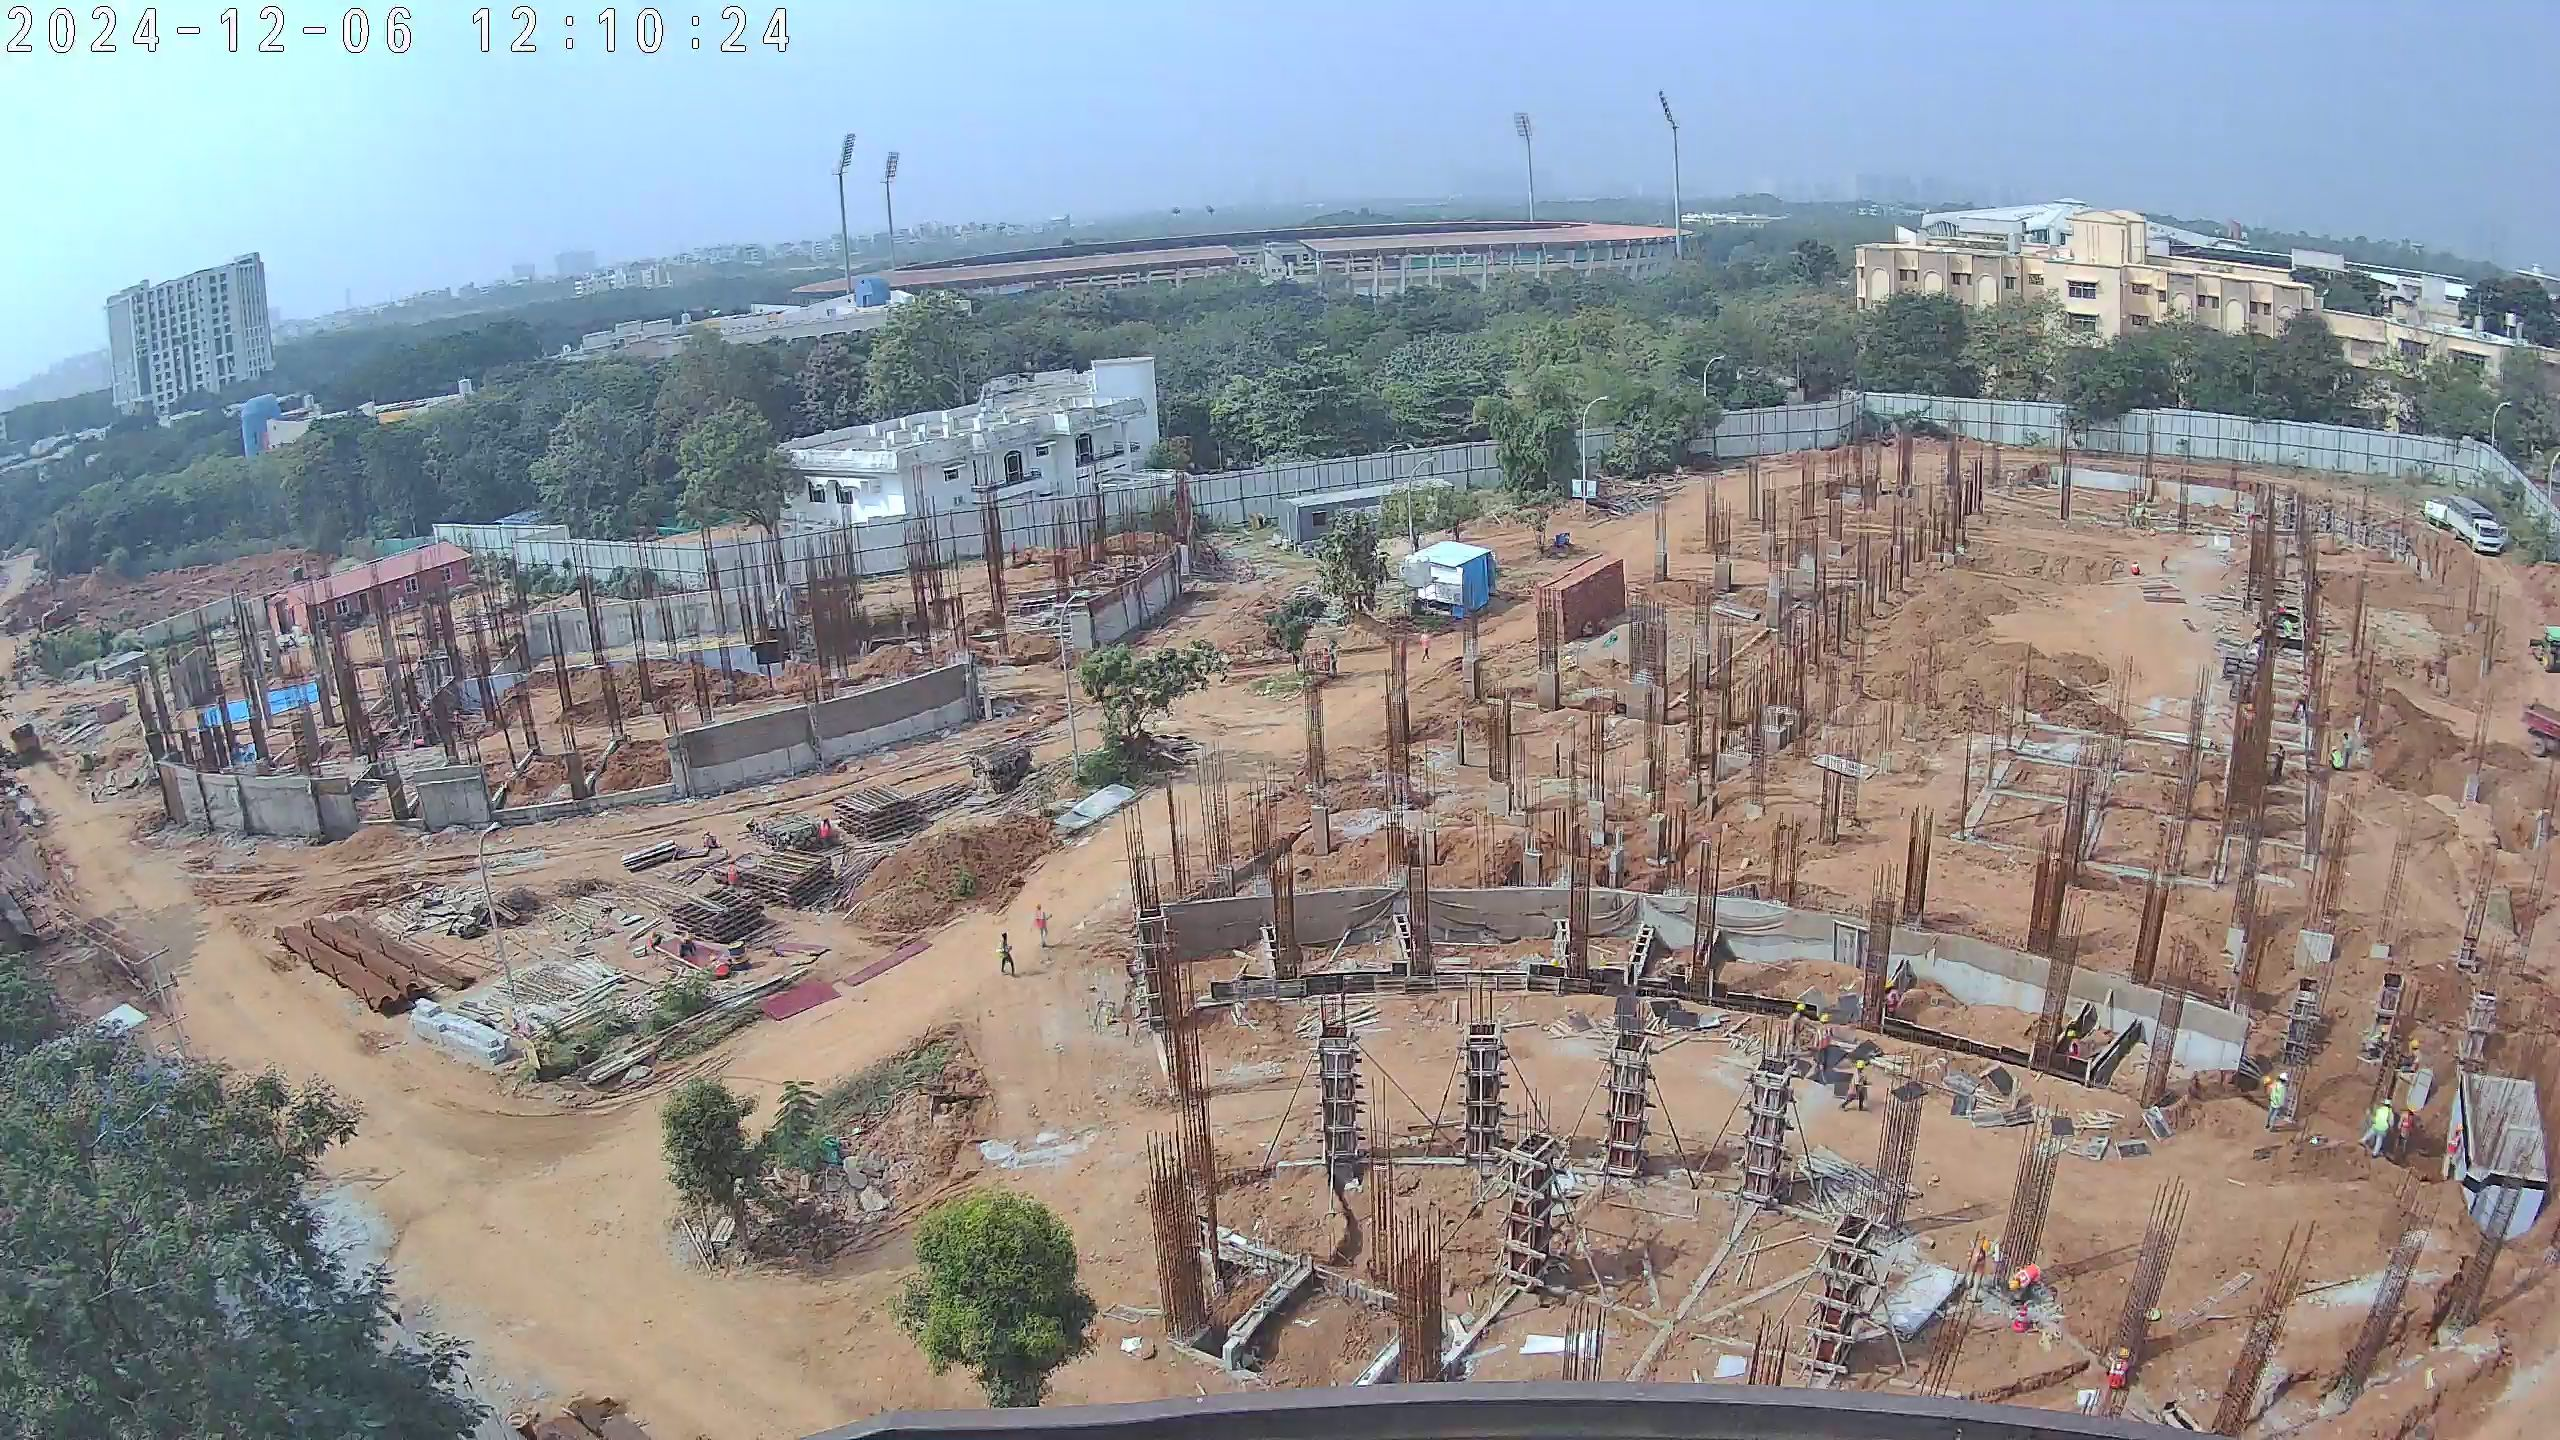bulldozer: (2521, 617, 2560, 681)
truck: (2423, 487, 2511, 560), (2515, 693, 2560, 767), (3, 719, 54, 766)
worker: (1966, 1230, 1998, 1307), (1778, 994, 1806, 1073), (2006, 1260, 2046, 1314), (2104, 1340, 2134, 1412), (2262, 1070, 2295, 1134), (2360, 1097, 2392, 1161), (2058, 1026, 2093, 1081), (1845, 1058, 1875, 1120), (2439, 1120, 2468, 1182), (1877, 975, 1906, 1036), (1810, 1010, 1832, 1090), (2359, 1023, 2392, 1065), (2395, 1101, 2418, 1160), (2397, 1033, 2425, 1081), (2267, 738, 2293, 786), (989, 931, 1016, 977), (1029, 900, 1054, 947), (816, 813, 840, 858), (2236, 700, 2258, 746), (2290, 685, 2310, 727), (2325, 744, 2349, 774), (723, 860, 745, 892), (699, 827, 727, 851), (2128, 556, 2145, 580)
